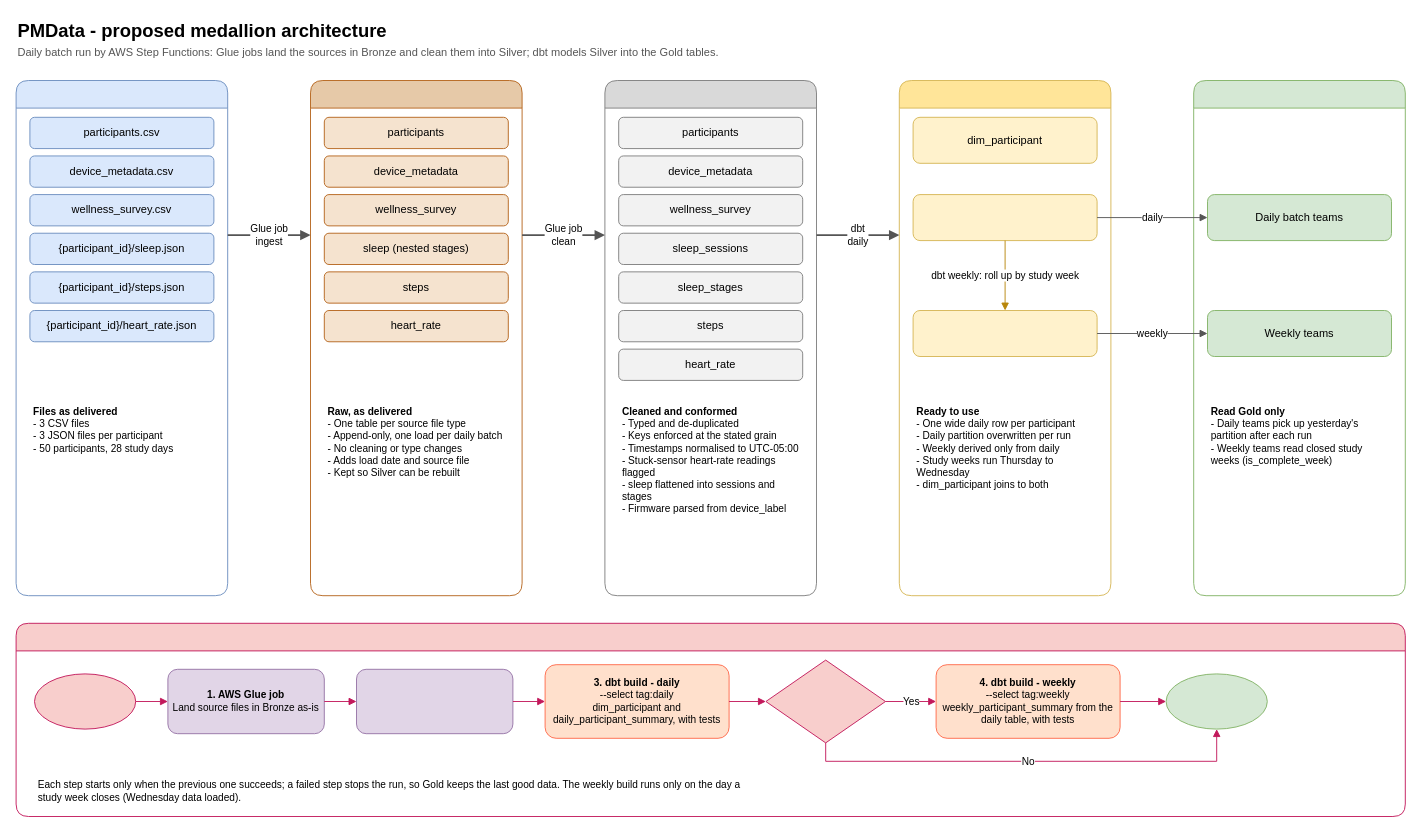
The diagram is 1421 pixels wide and 833 high, and some of its shapes have lost their labels. Each missing label, with the box of its shape:
2. AWS Glue job Clean, type and flatten Bronze into Silver: (356, 668, 513, 734)
AWS Step Functions - daily state machine: (15, 622, 1405, 816)
Bronze - raw: (310, 80, 522, 596)
Consumers: (1193, 80, 1405, 596)
Daily schedule: (34, 673, 136, 729)
daily_participant_summary: (912, 194, 1097, 241)
Gold - consumption: (898, 80, 1111, 596)
Gold published: (1165, 673, 1267, 729)
Silver - cleaned: (604, 80, 816, 596)
Sources: (15, 80, 228, 596)
Study week closed?: (765, 659, 886, 743)
weekly_participant_summary: (912, 310, 1097, 356)
